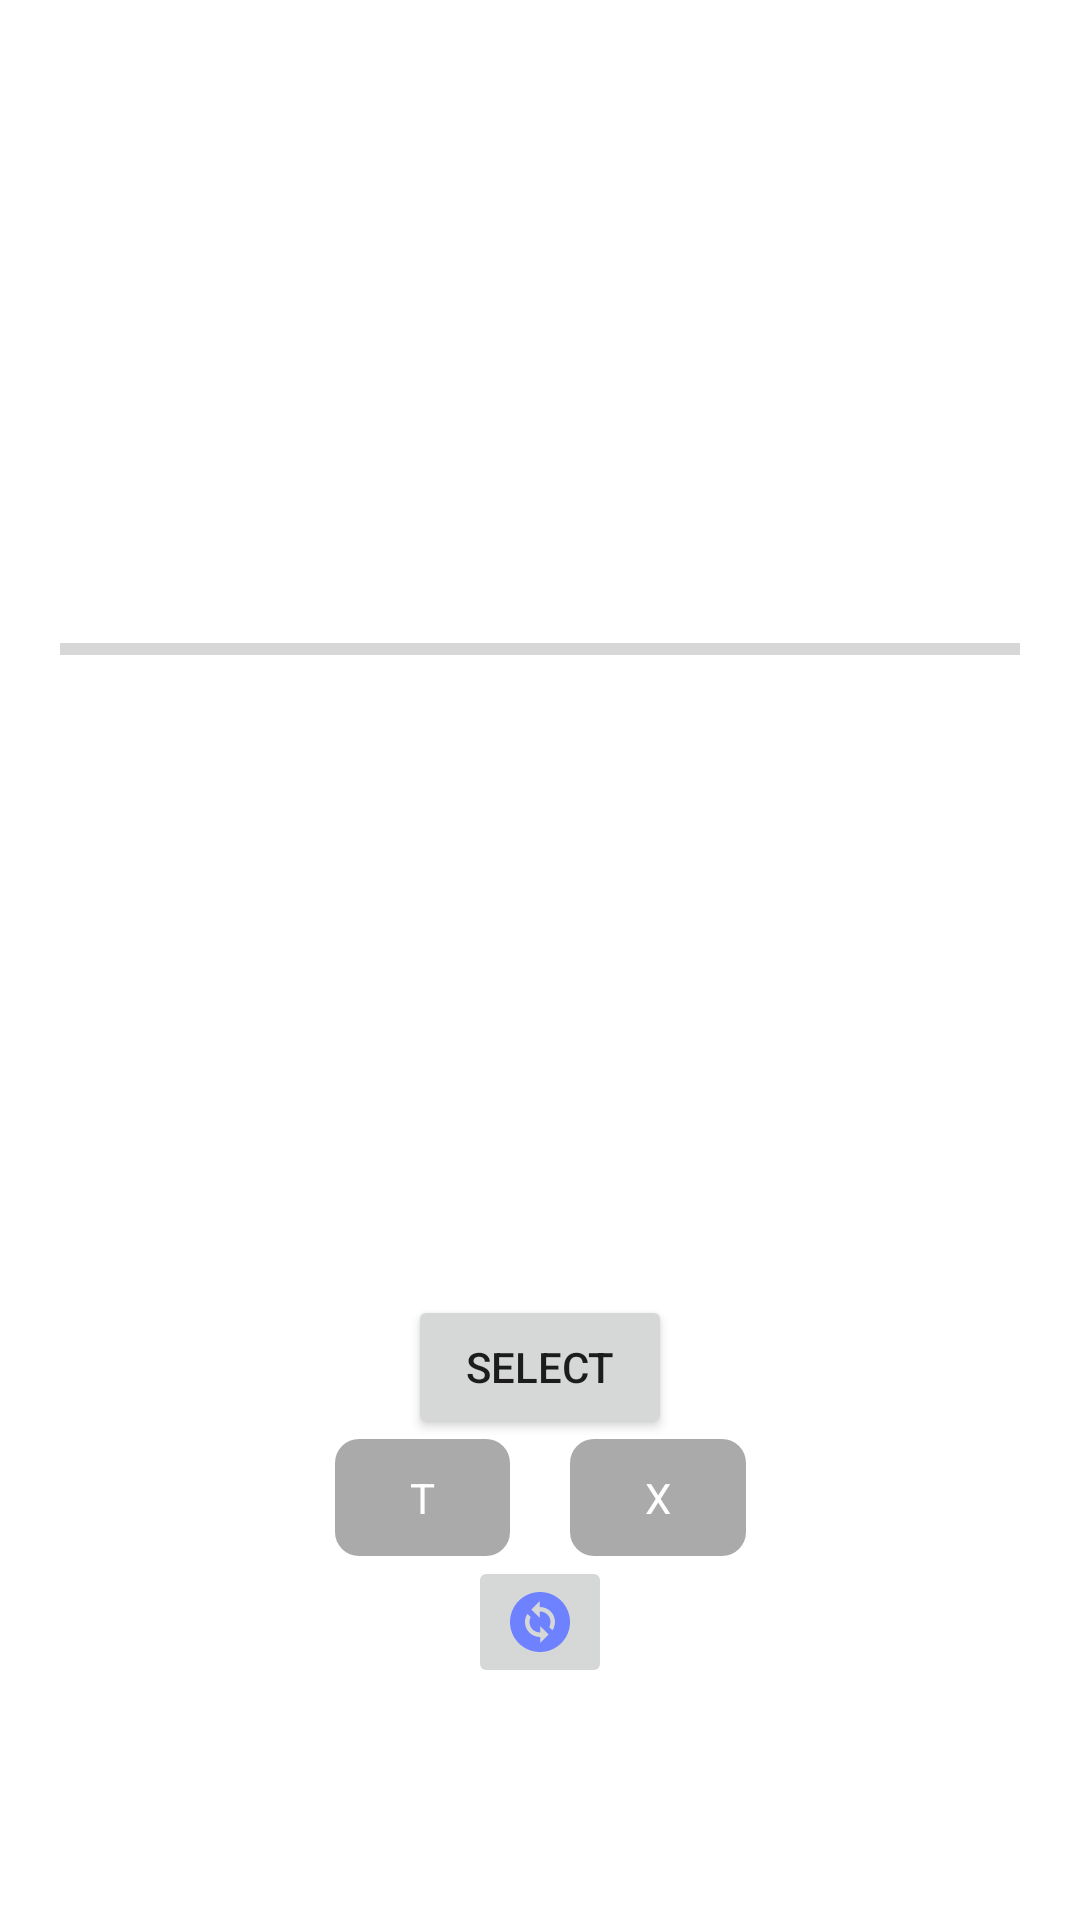

Named icons in this screenshot (1080x1920) and their centers, point (x, y):
reset: point (540, 1622)
